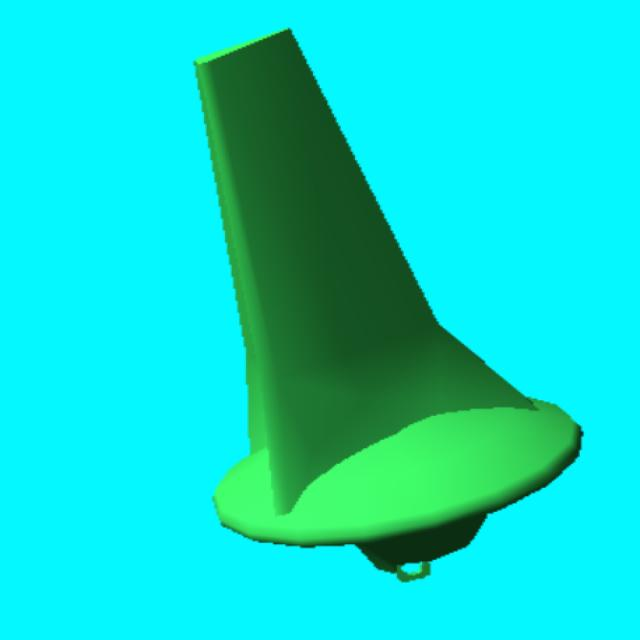GreenBuoy: (196, 30, 581, 576)
